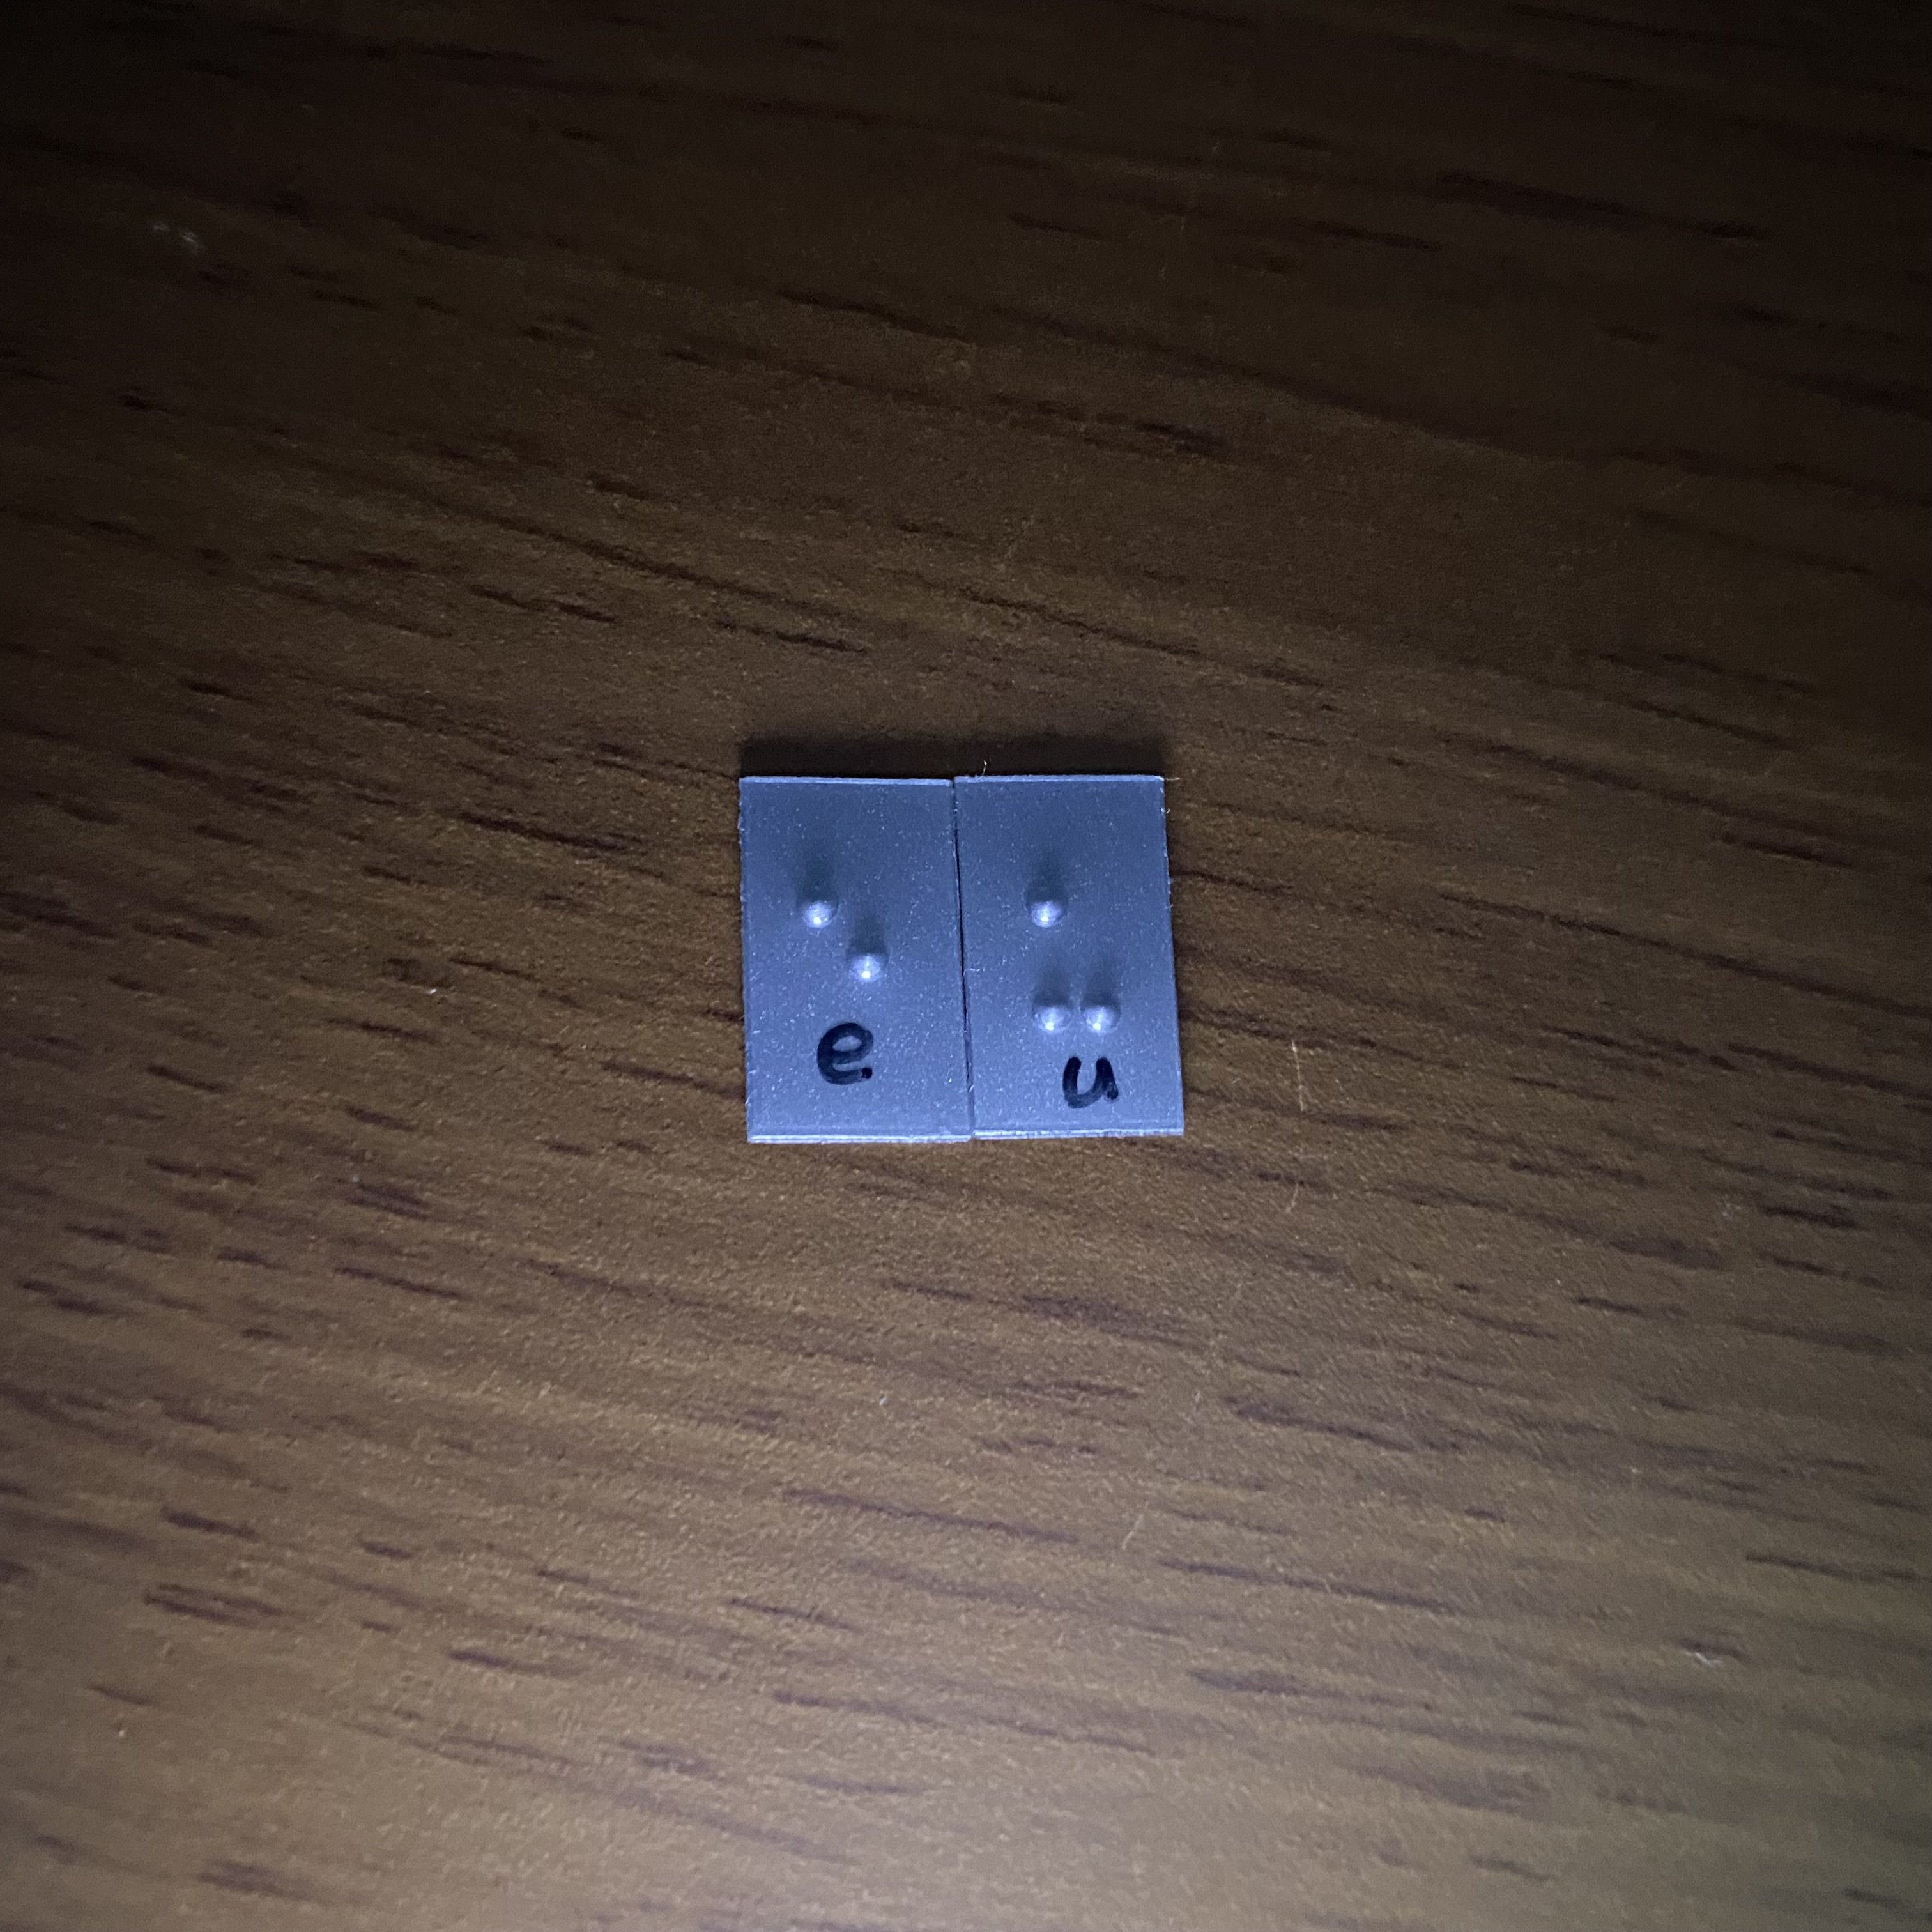e: (772, 835, 915, 1066)
u: (1003, 855, 1133, 1046)
